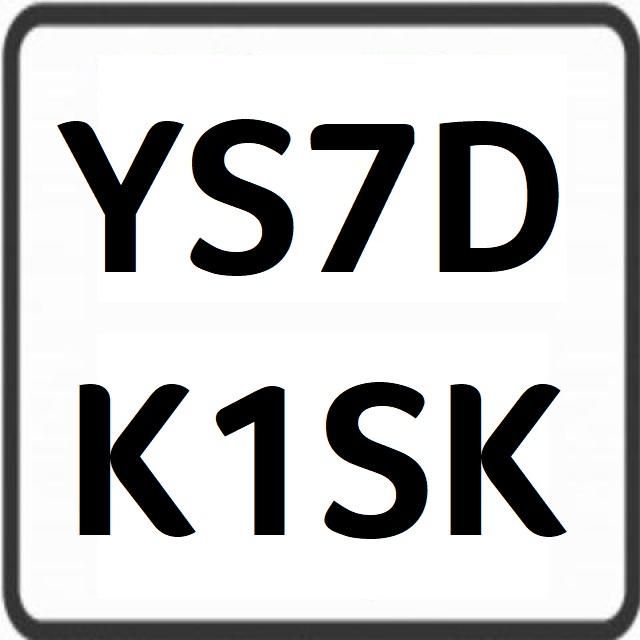D: (434, 110, 566, 287)
K: (60, 355, 200, 554), (451, 358, 578, 553)
S: (188, 99, 301, 282), (326, 362, 432, 546)
T: (317, 105, 421, 285), (216, 363, 298, 551)
Y: (57, 92, 186, 286)
